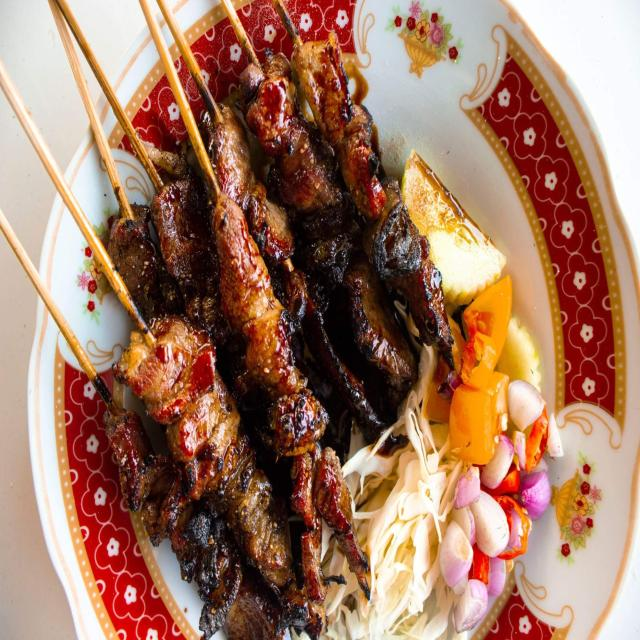Sate: (0, 31, 416, 533)
